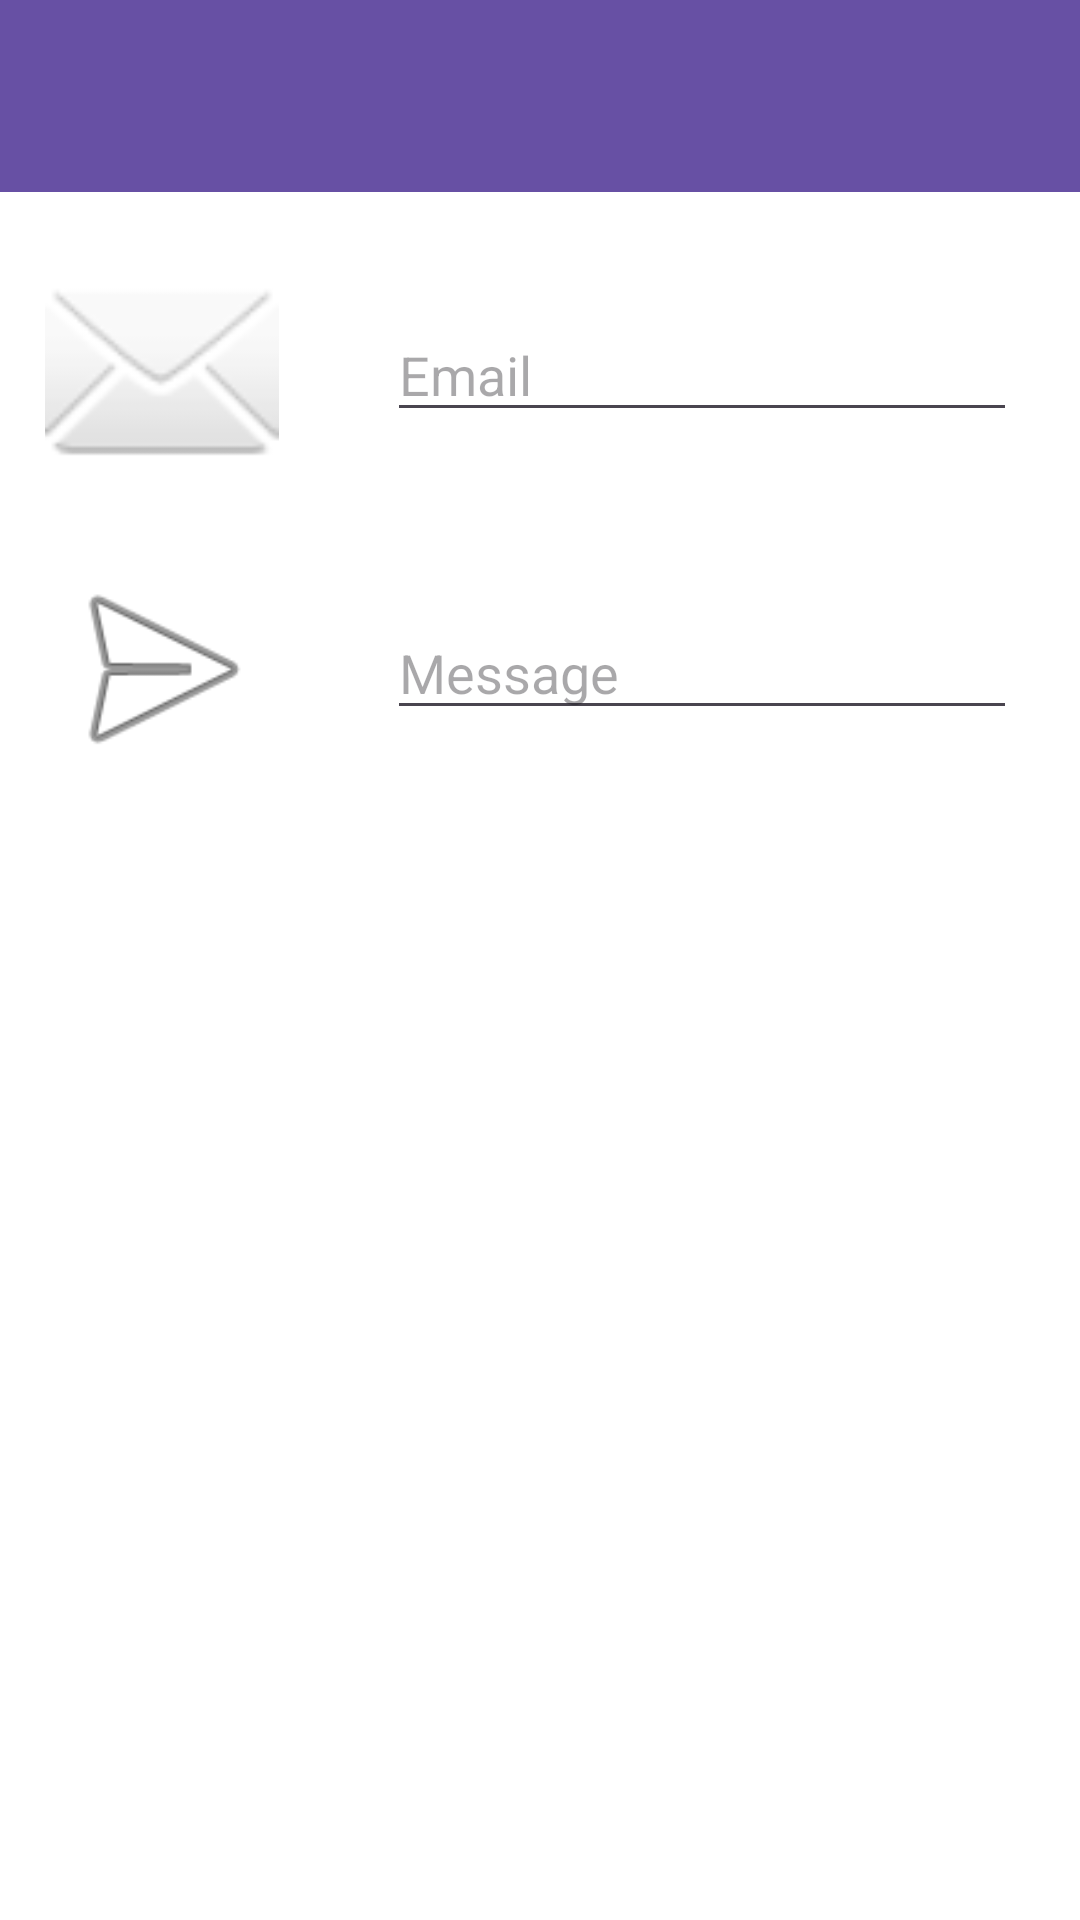

Named icons in this screenshot (1080*1920) and their bounding boxes, (x1, y1, x2, y2):
send: (89, 595, 239, 744)
